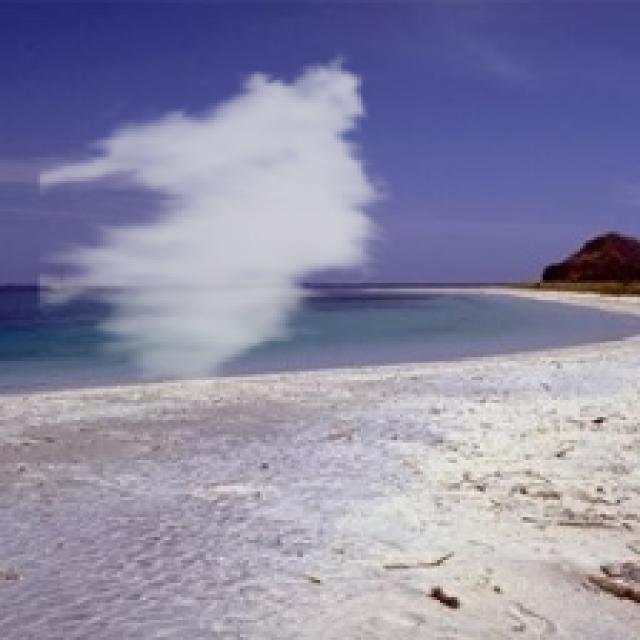smoke: (37, 46, 394, 400)
